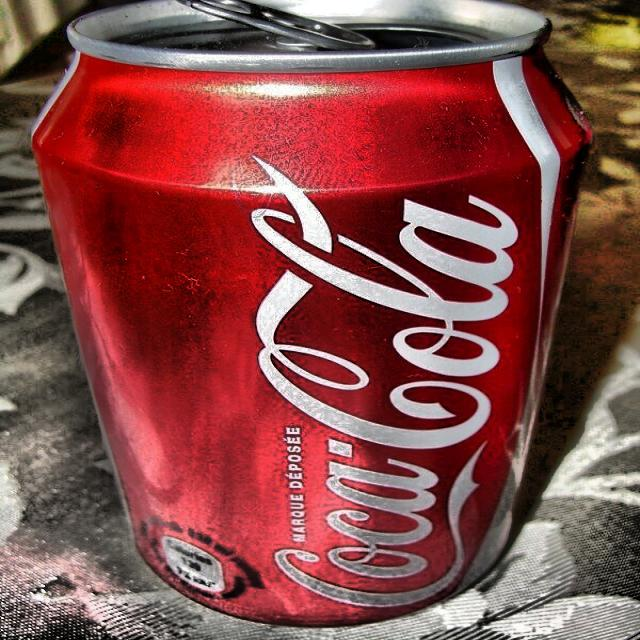Cans: (29, 0, 587, 631)
